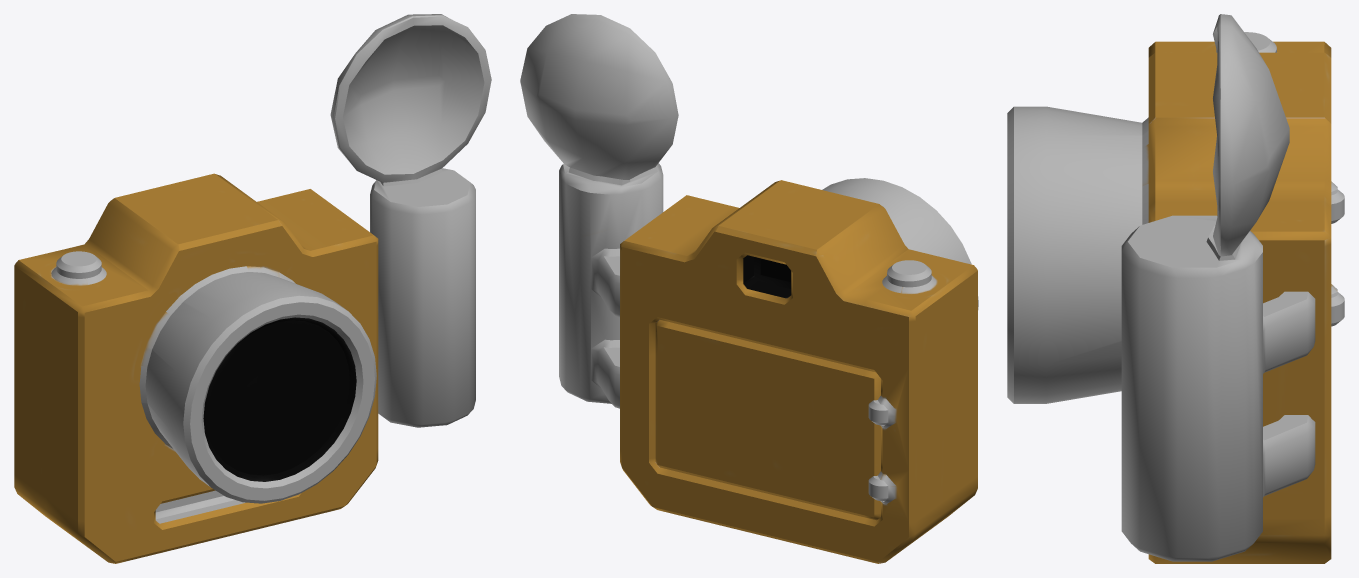
File: Camera.fbx
The picture shows the model from 3 angles, left to right: view 1: azimuth 30°, elevation 25°; view 2: azimuth 150°, elevation 25°; view 3: azimuth 270°, elevation 25°; orthographic projection. The views are drawn at different scales.
Visible parts, largest first — view 1: Cylinder.002; view 2: Cylinder.002; view 3: Cylinder.002.
Part boxes in pixels (<box>): Cylinder.002: <box>14,14,491,563</box>; Cylinder.002: <box>520,14,978,563</box>; Cylinder.002: <box>1007,14,1344,563</box>.
Bounding box in the file's own units: 231 × 227 × 116.
Materials: 1 (1 with a texture image).
